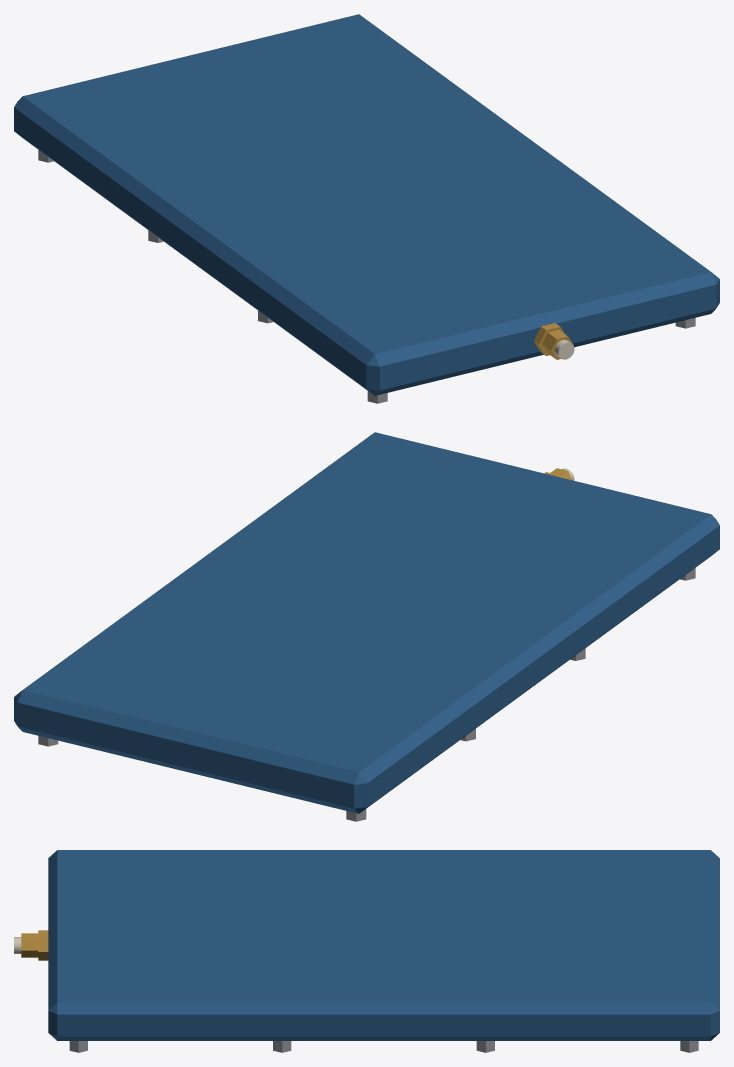
File: pod4_battery.obj
The picture shows the model from 3 angles, top to bottom: view 1: azimuth 30°, elevation 25°; view 2: azimuth 150°, elevation 25°; view 3: azimuth 270°, elevation 25°; orthographic projection. The views are drawn at different scales.
Visible parts, largest first — view 1: pod4_battery; view 2: pod4_battery; view 3: pod4_battery.
Part boxes in pixels (bbox=[...]): pod4_battery: bbox=[14, 14, 719, 403]; pod4_battery: bbox=[14, 432, 719, 821]; pod4_battery: bbox=[14, 850, 719, 1052].
Size of the model in its own units: 0.62 by 0.095 by 1.16.
